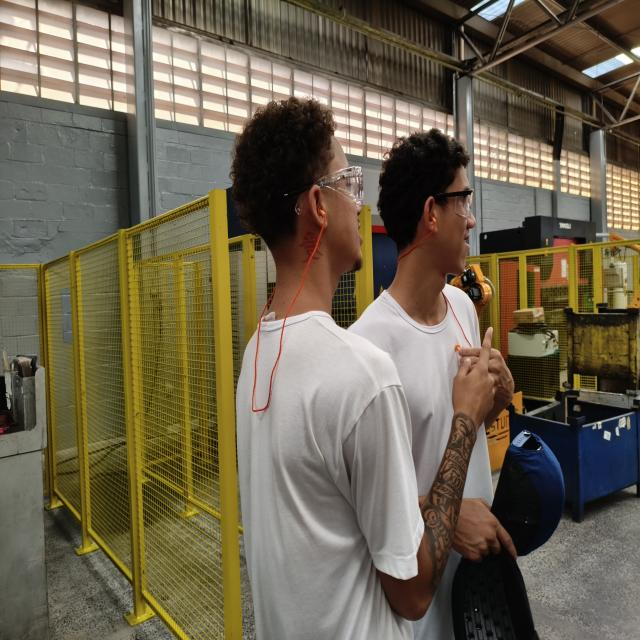sem_oculos: (285, 166, 363, 215), (434, 189, 473, 217)
